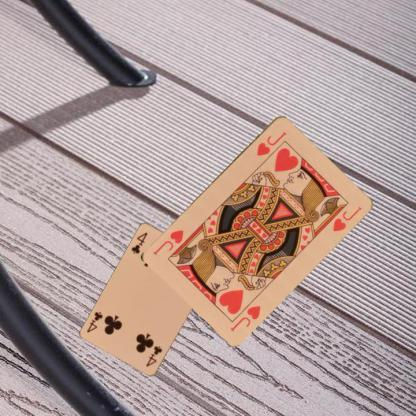4c: (144, 343, 164, 368), (129, 230, 149, 255)
Jh: (228, 302, 262, 332), (254, 128, 288, 157)
